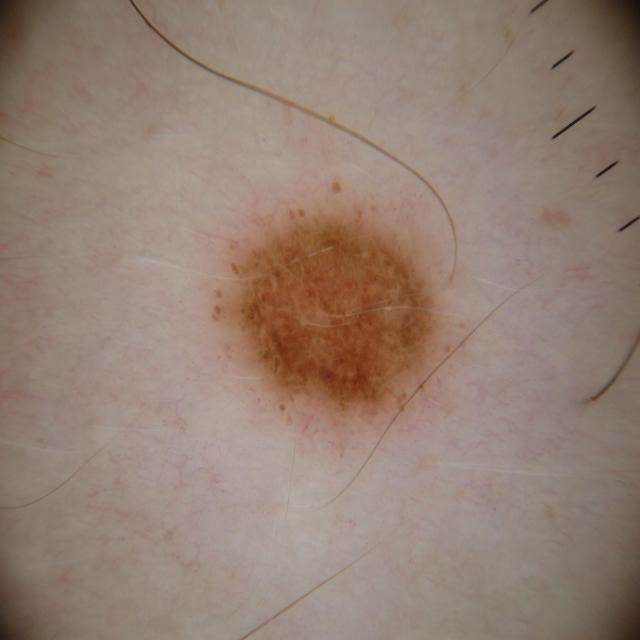Melanoma: (217, 194, 446, 426)
